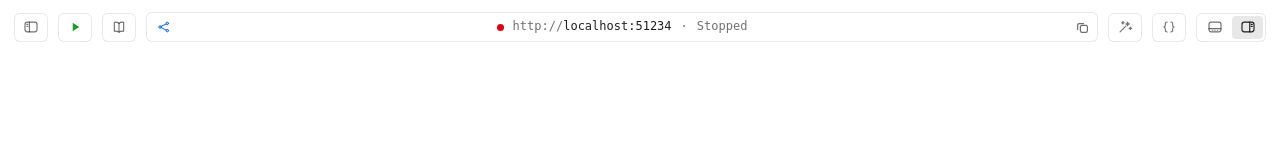
Scenario: a start against a taken port names the port and offers a way out
What coordinates should you click on to do the following:
click the button named "Start"
I would click on:
 (75, 27)
Its box is [58, 12, 92, 42].
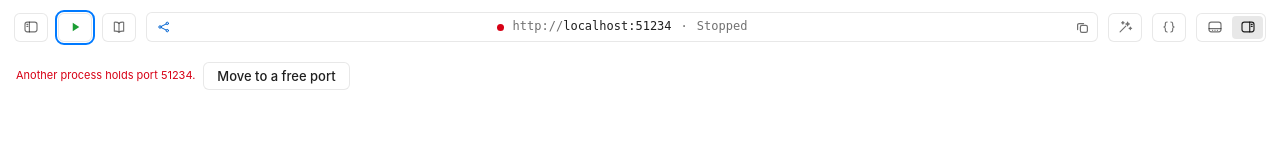
Check: the message reads "Another process holds port 51234.", box [16, 68, 195, 84]
Check: the button "Move to a free port" is shown, box [203, 62, 350, 90]
